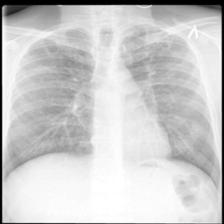tuberculosis: (3, 5, 222, 223)
